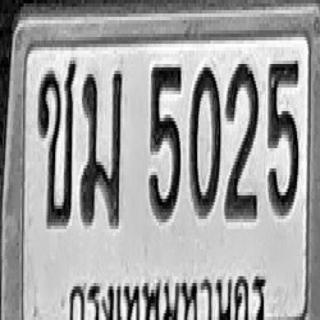A10: (36, 57, 76, 226)
A33: (80, 67, 122, 226)
N00: (189, 62, 220, 217)
N02: (224, 61, 258, 219)
N05: (148, 62, 182, 221), (267, 57, 299, 216)
